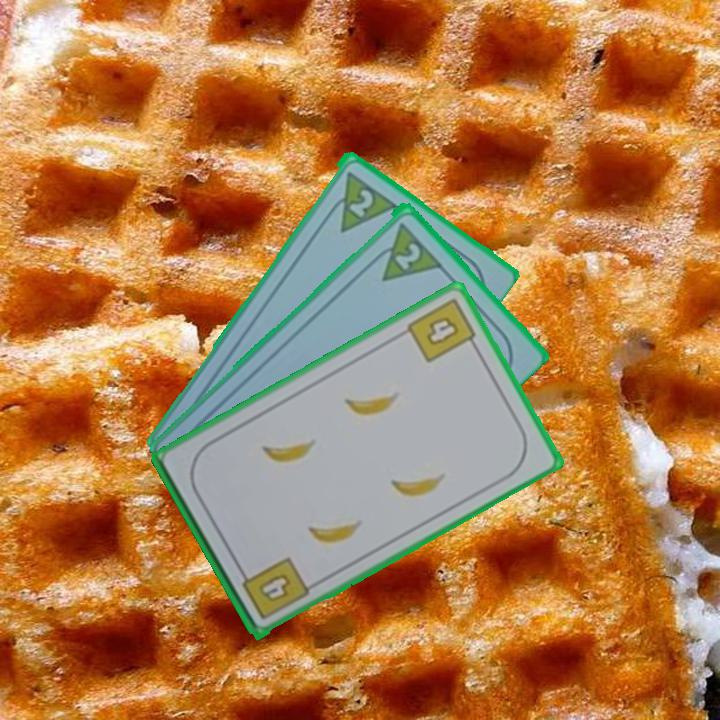2p: (320, 167, 398, 235), (365, 218, 444, 284)
4b: (403, 294, 482, 366), (235, 553, 312, 623)
